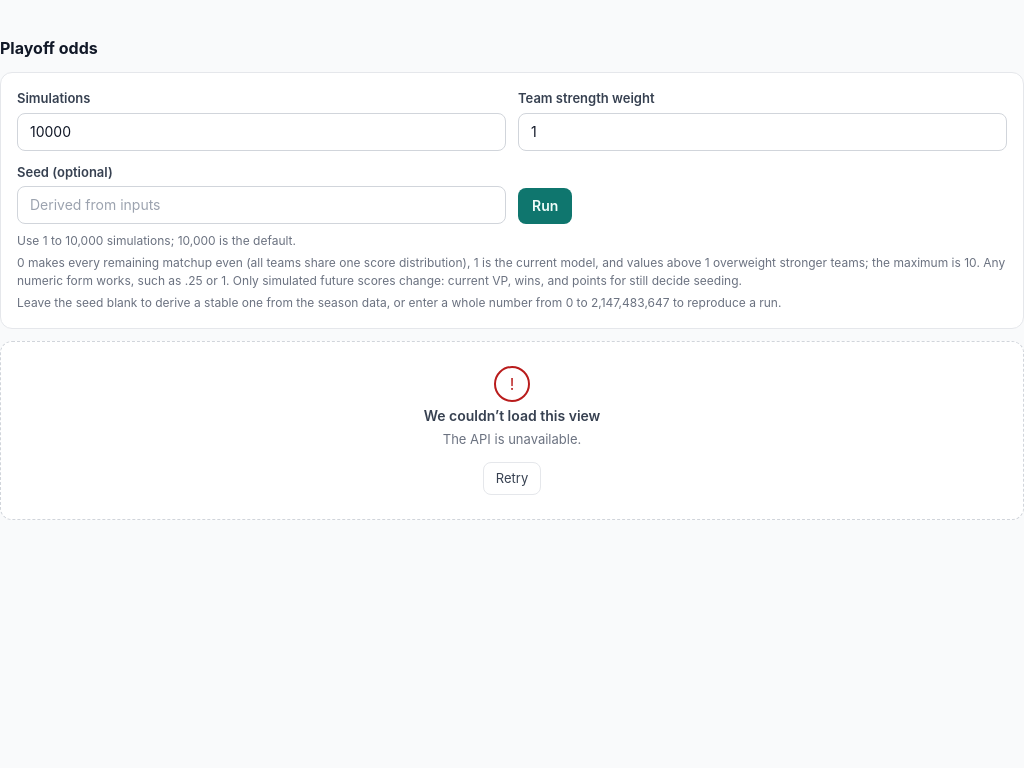
Test: PlayoffOddsSection (AC-PO-11) › shows an error and retries the request
The image size is (1024, 768).
expect the message shows "The API is unavailable.": met, box [443, 431, 581, 447]
Click the button "Retry".
click(512, 478)  # box [483, 462, 541, 495]
(page scrolled)
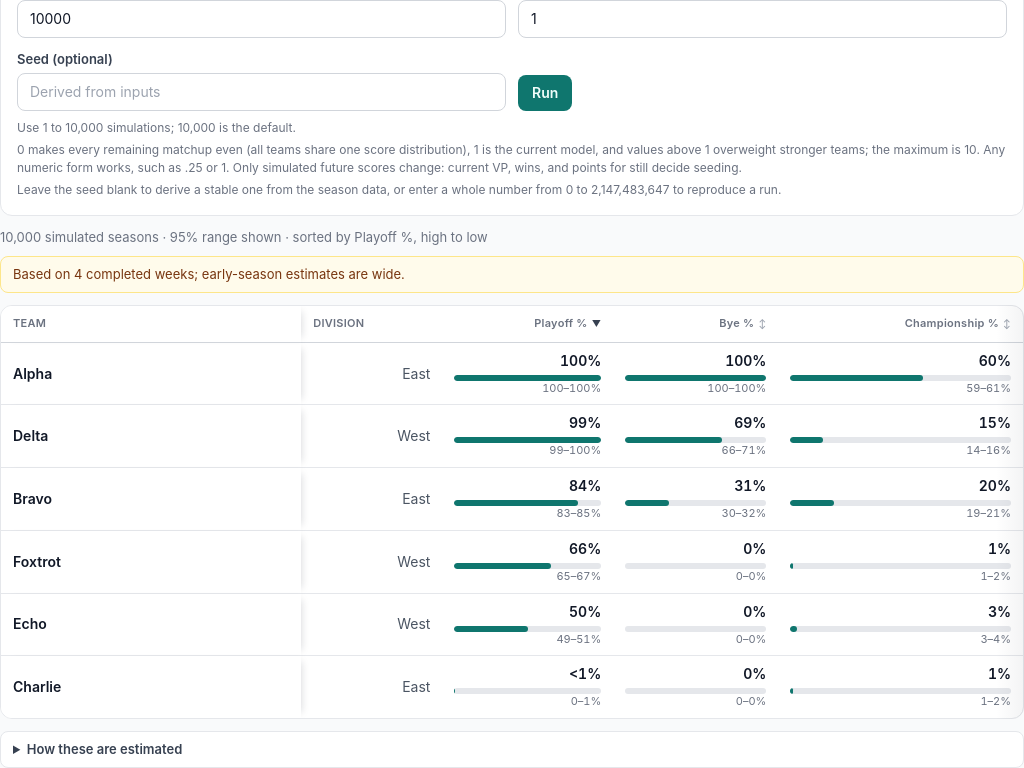
expect the element named "Playoff odds, scrollable horizontally" is shown: met, box [0, 305, 1023, 719]
